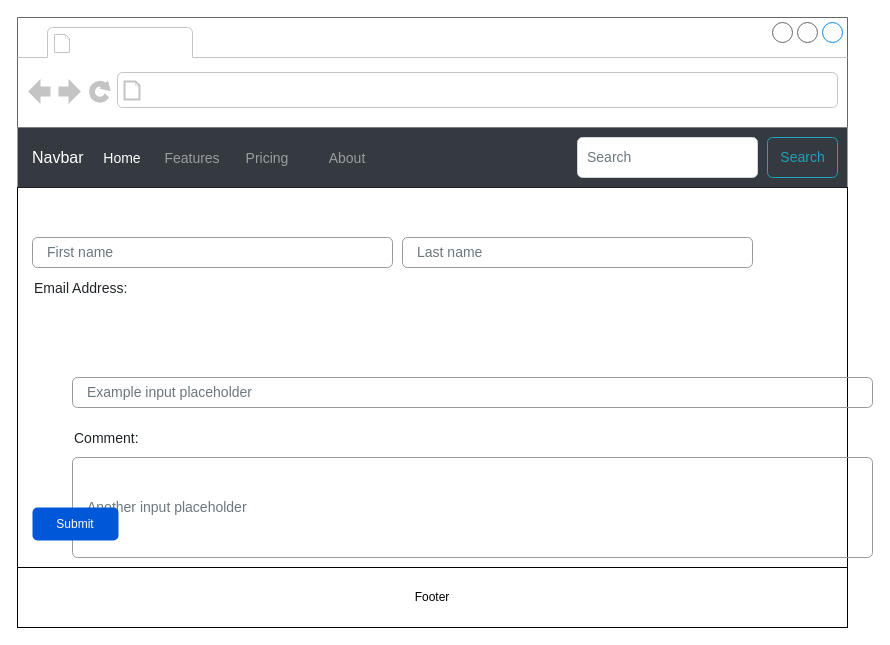
This 890x645 diagram has some shape labels left out. Each missing label, with the centre of its shape:
"https://www.draw.io" goes at [272,90].
"Page 1" goes at [132,42].
